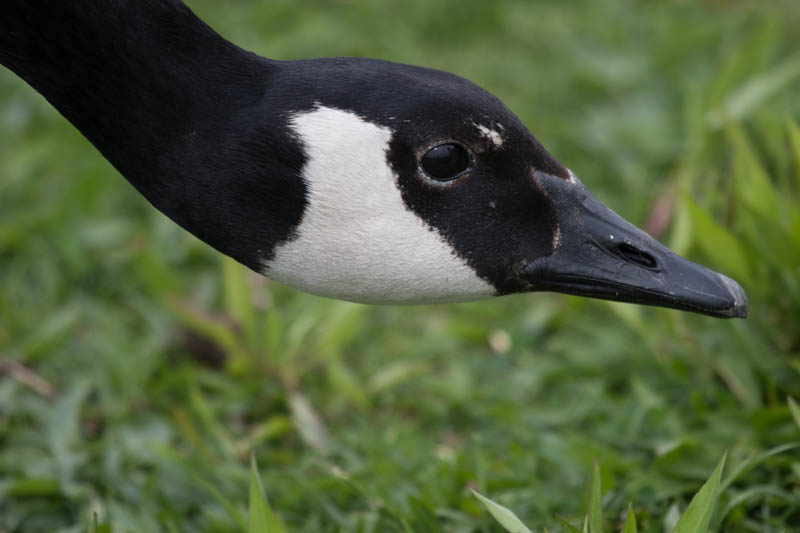goose-head: (225, 57, 749, 321)
